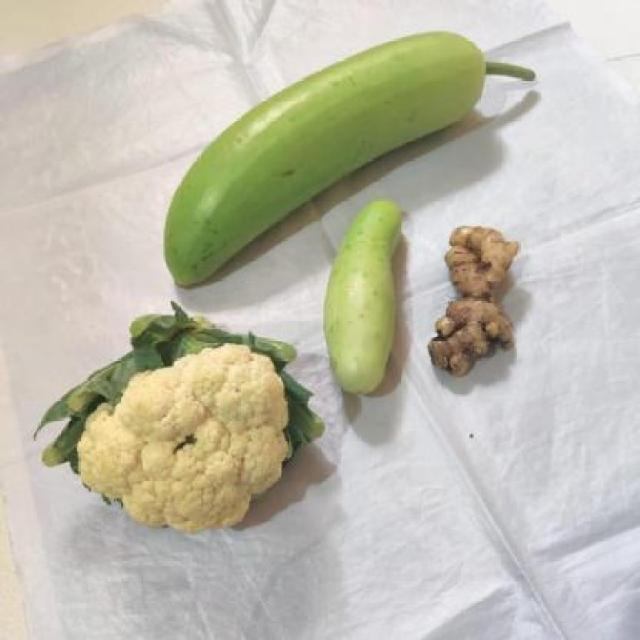Calabash: (117, 26, 548, 192)
Cauliflower: (37, 302, 326, 540)
Ginger: (420, 208, 531, 384)
cucumber: (312, 184, 434, 410)
